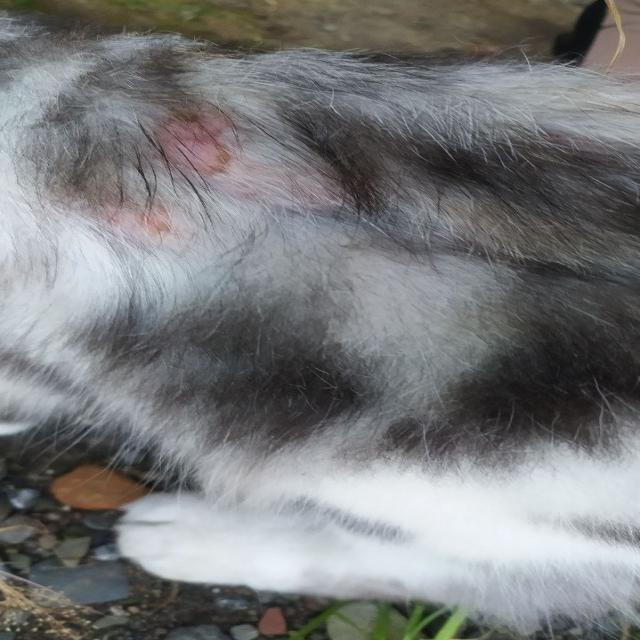hac lao: (76, 94, 312, 198)
